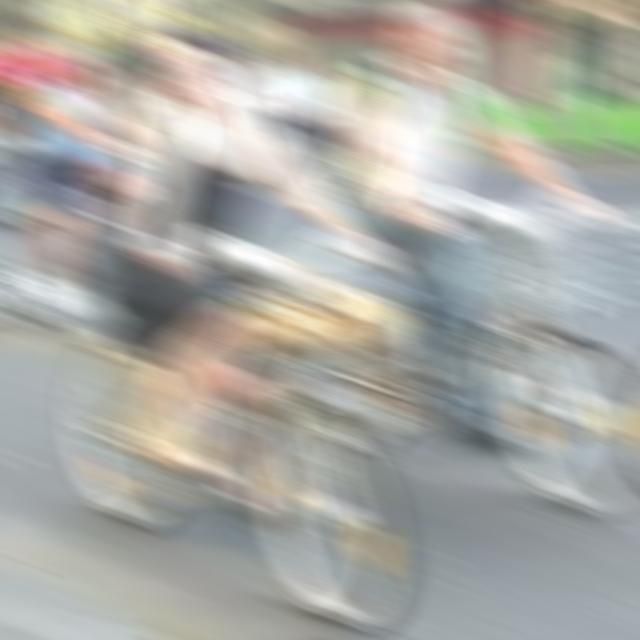Without Helmet: (138, 15, 240, 102), (379, 0, 474, 83)
